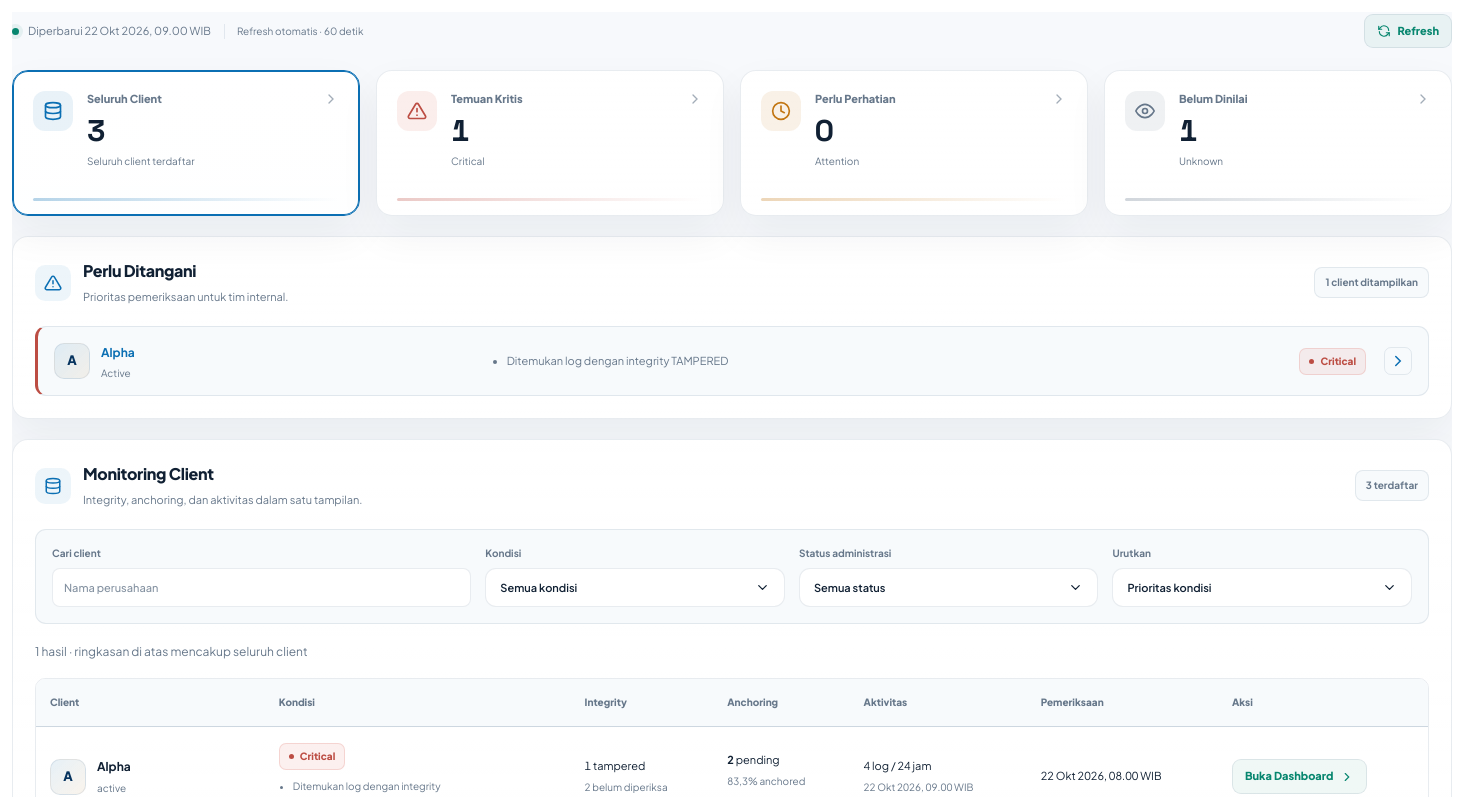
Test: keeps last data on refresh failure and supports retry
Expected: the link with aria-label "Buka Dashboard →" is shown, [1232,759,1367,794]
Click the button "Refresh" at (1408, 31), box [1364,14,1452,48]
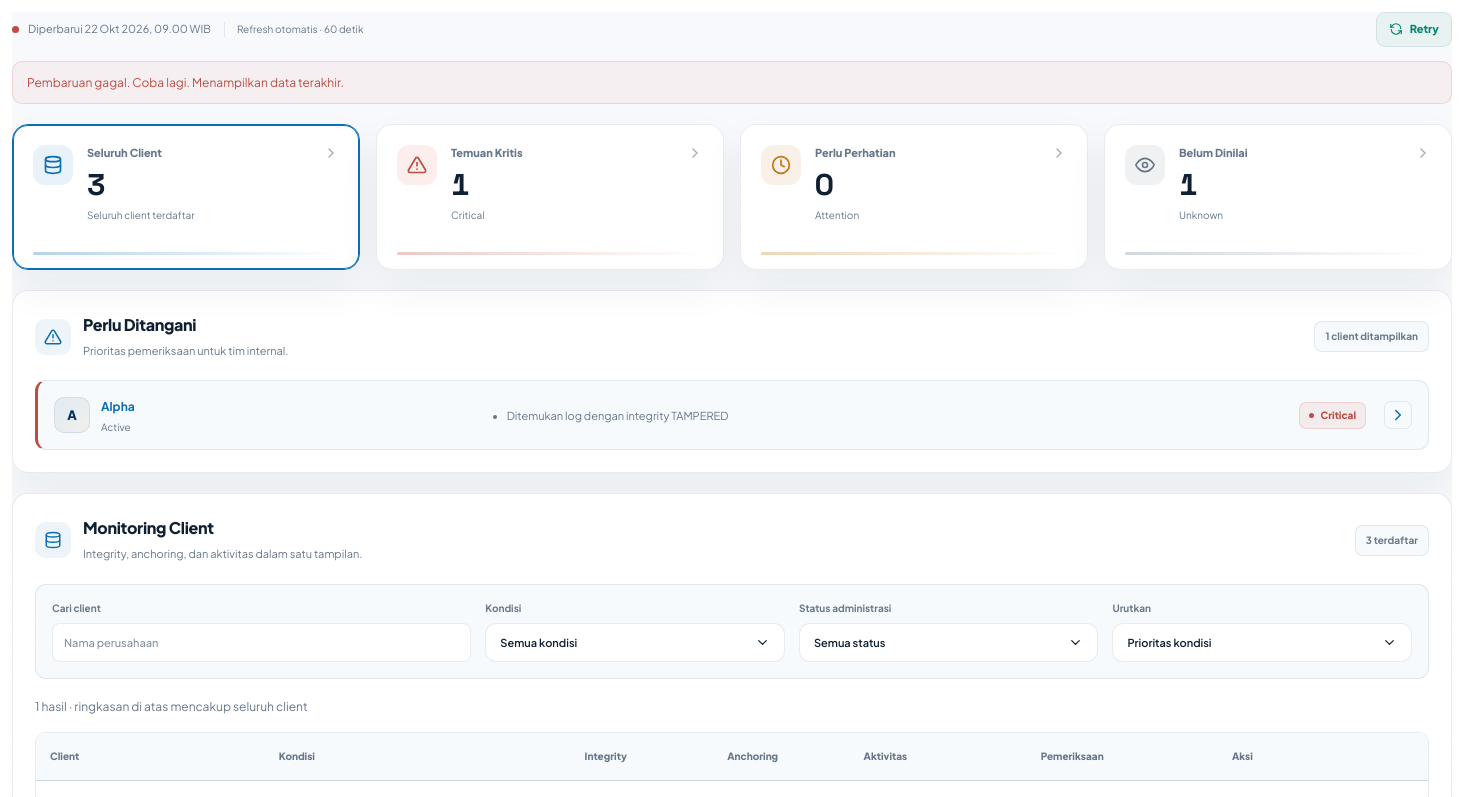
Result: the message "Pembaruan gagal. Coba lagi. Menampilkan data terakhir." is shown at [12,60,1452,104]
Result: the message shows "Menampilkan data terakhir" at [190,74,344,90]
Click the button "Retry" at (1414, 29), box [1376,12,1452,46]
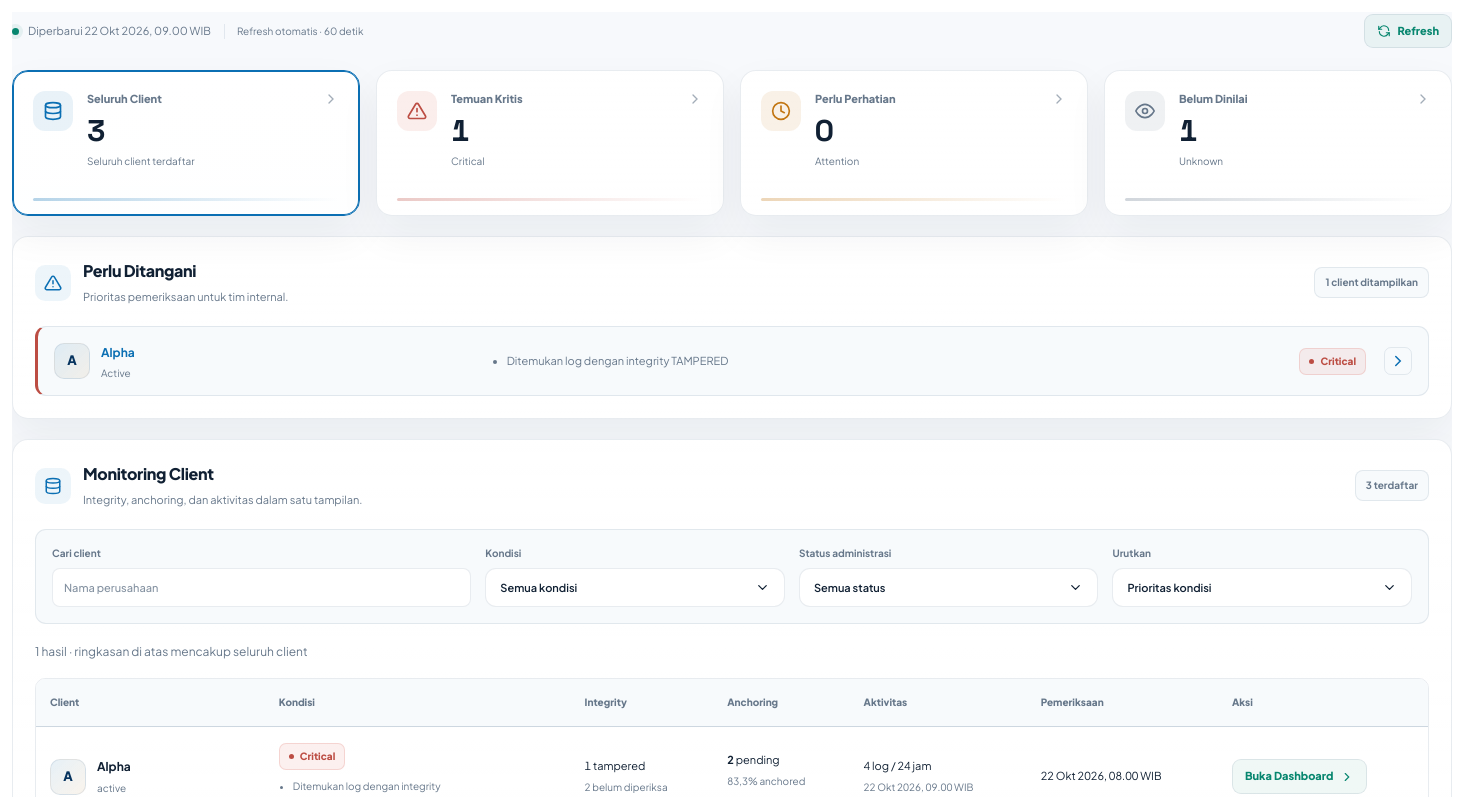
Result: the message "Pembaruan gagal. Coba lagi. Menampilkan data terakhir." is gone
